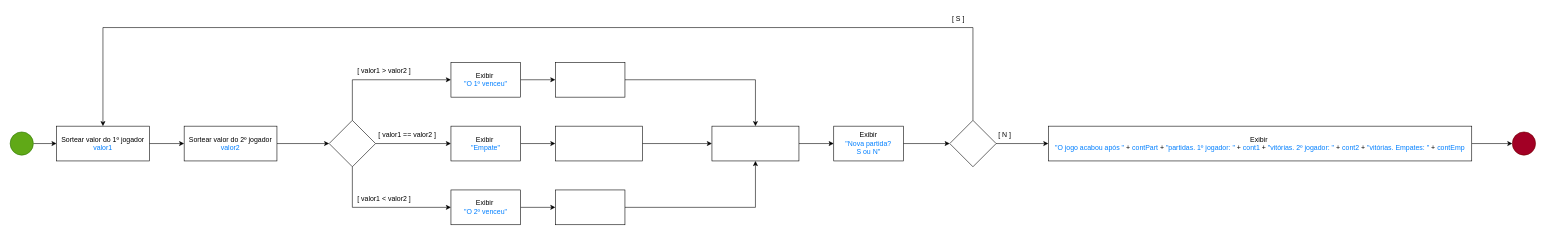
Some shapes in this 1546 by 235 pixel diagram are drawn without their labels. The centre of each missing label's shape, as x and y in pixels:
Calcular partidas contPart = contPart + 1: [755,143]
cont1 = cont1 + 1: [590,79]
cont2 = cont2 + 1: [590,207]
contEmp = contEmp + 1: [598,143]
